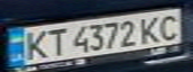2: (118, 16, 142, 47)
3: (84, 21, 106, 52)
4: (69, 22, 90, 54)
7: (103, 19, 124, 49)
C: (154, 11, 187, 40)
K: (18, 27, 54, 61), (136, 14, 166, 44)
T: (42, 25, 69, 56)
